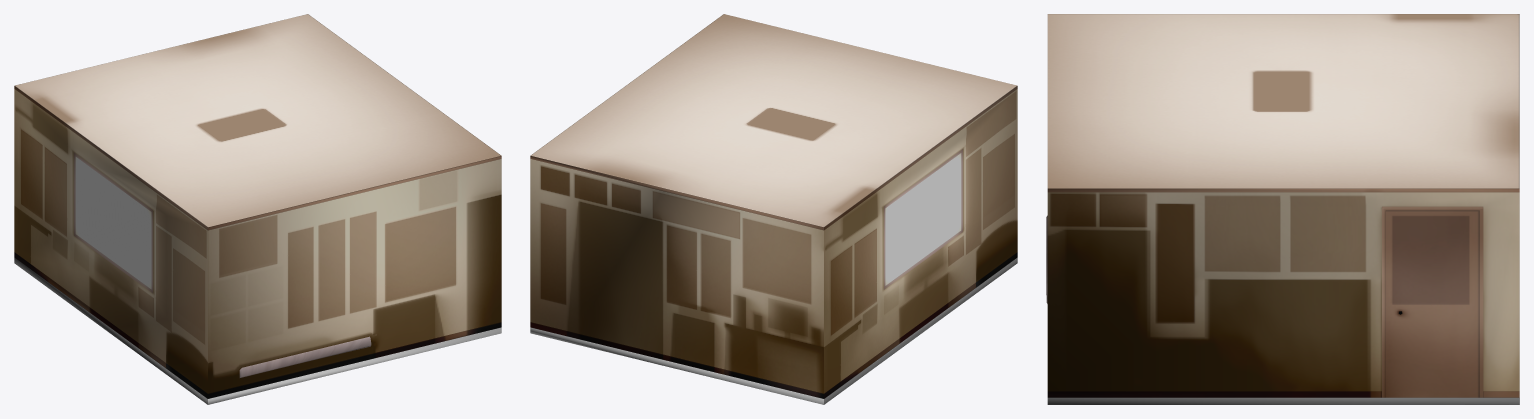
File: haru urara Room.fbx
3 views of the same model, side by side, from view 1: azimuth 30°, elevation 25°; view 2: azimuth 150°, elevation 25°; view 3: azimuth 270°, elevation 25° (orthographic). The views are drawn at different scales.
Parts seen in each view (by area): view 1: Ruko's Room_mesh; view 2: Ruko's Room_mesh; view 3: Ruko's Room_mesh.
Boxes of the visible parts, box(x1,y1,x2,y2) form: Ruko's Room_mesh: box(14, 14, 501, 404); Ruko's Room_mesh: box(530, 14, 1017, 404); Ruko's Room_mesh: box(1046, 14, 1519, 404).
Bounding box in the file's own units: 410 × 237 × 469.
14 materials, 12 textured.
